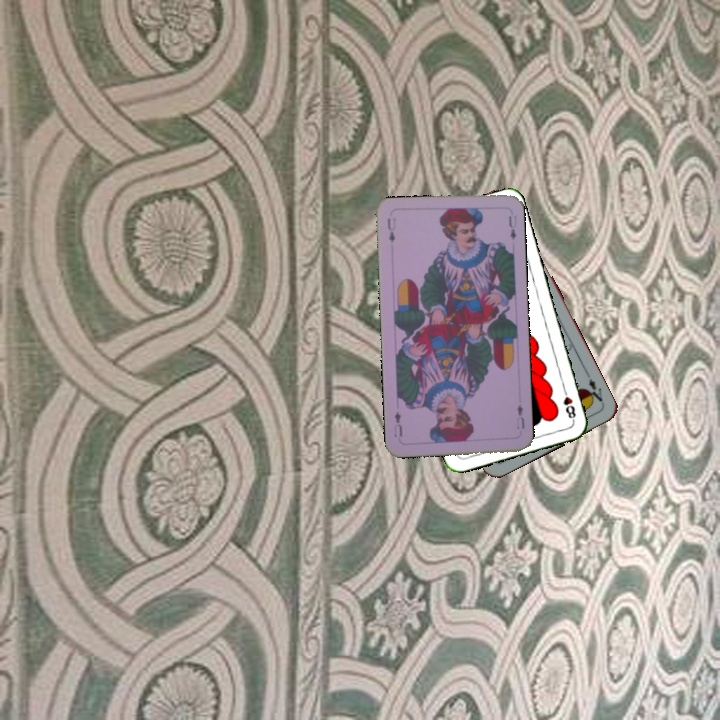EA: (582, 369, 605, 405)
EU: (512, 400, 527, 432), (383, 214, 398, 245)
H8: (559, 384, 578, 424)
